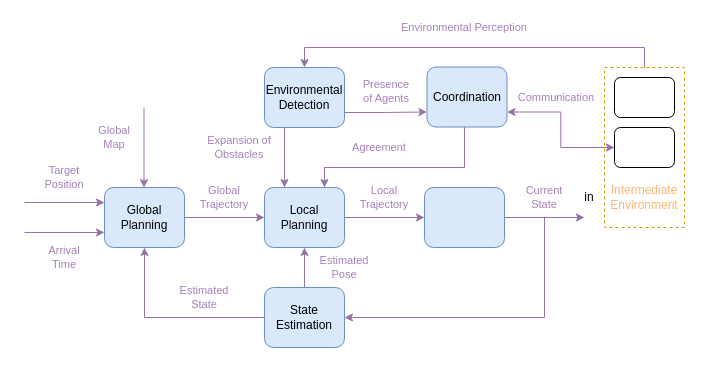
The diagram is 702 pixels wide and 365 high, and some of its shapes have lost their labels. The shapes that lost their labels are listed below. From the top down, each one's centre as x and y in pixels, then its label:
At point 644,97: "Obstacles".
At point 644,147: "Agents".
At point 464,217: "Trajectory Tracking".
